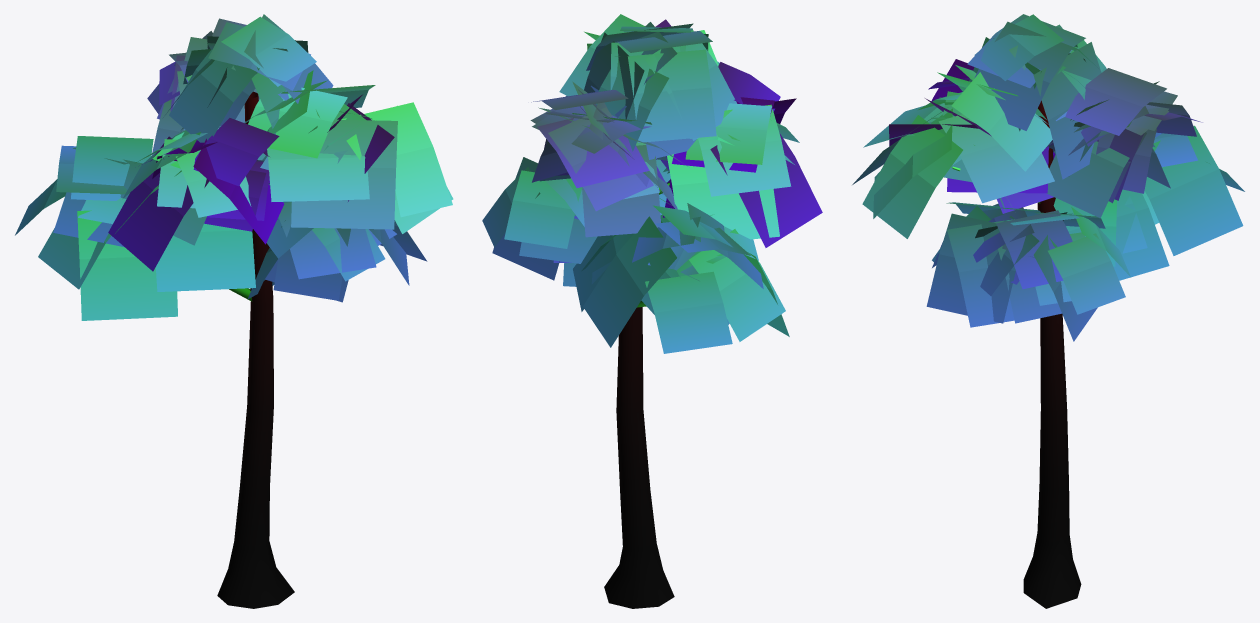
File: Jungle4_LOD1.fbx
3 renders of one model, left to right at view 1: azimuth 30°, elevation 25°; view 2: azimuth 150°, elevation 25°; view 3: azimuth 270°, elevation 25°, orthographic. The views are drawn at different scales.
Visible parts, largest first — view 1: Jungle4_Lite; view 2: Jungle4_Lite; view 3: Jungle4_Lite.
Part boxes in pixels (bbox=[...]): Jungle4_Lite: bbox=[15, 14, 453, 608]; Jungle4_Lite: bbox=[482, 14, 822, 608]; Jungle4_Lite: bbox=[852, 14, 1244, 608].
Bounding box in the file's own units: 13.99 × 24.61 × 15.79.
